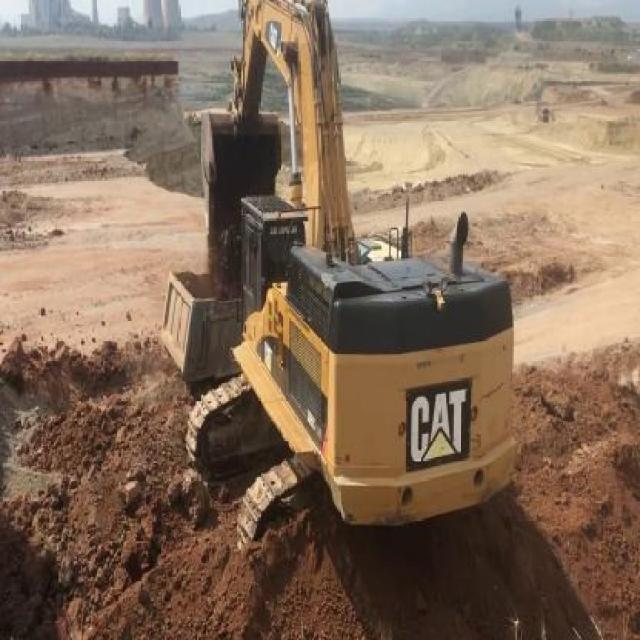Dump Truck: (158, 255, 239, 388)
Excavator: (183, 0, 519, 572)
